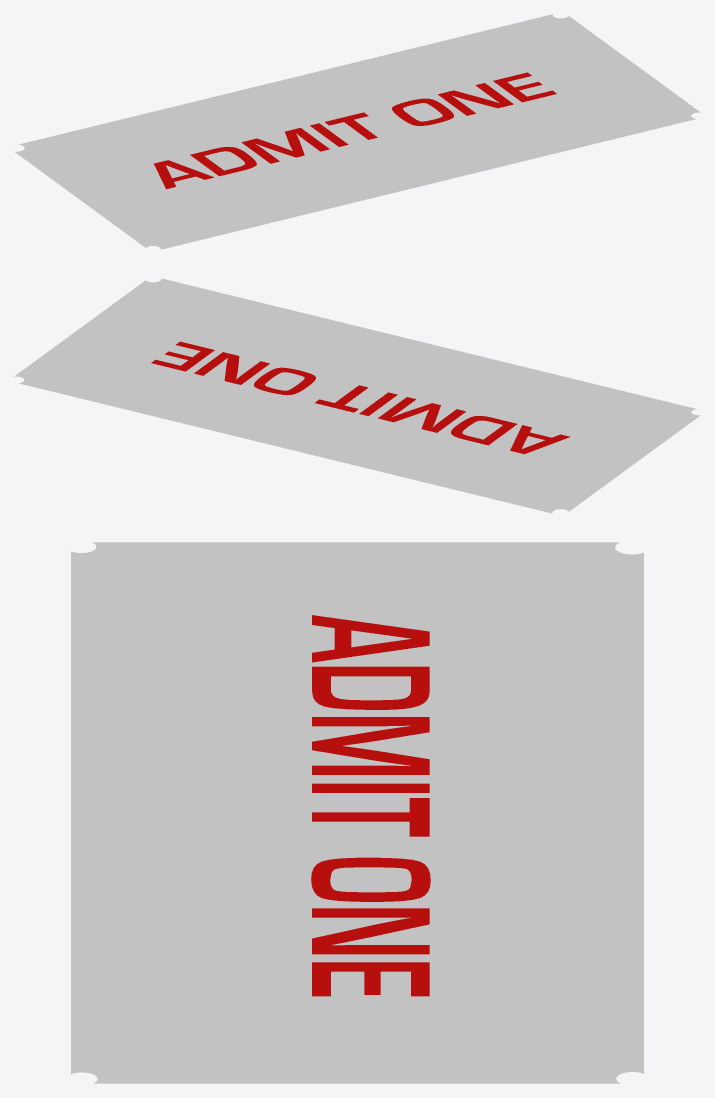
3 views of the same model, one above another, from view 1: azimuth 30°, elevation 25°; view 2: azimuth 150°, elevation 25°; view 3: azimuth 270°, elevation 25° (orthographic). The views are drawn at different scales.
Parts seen in each view (by area): view 1: SketchUp, ADMIT_ONE (×7); view 2: SketchUp, ADMIT_ONE (×7); view 3: SketchUp, ADMIT_ONE (×8).
Part boxes in pixels (bbox=[...]): SketchUp: bbox=[14, 14, 700, 249]; ADMIT_ONE (×7): bbox=[154, 72, 556, 189]; SketchUp: bbox=[14, 278, 700, 513]; ADMIT_ONE (×7): bbox=[151, 341, 570, 454]; SketchUp: bbox=[71, 542, 643, 1083]; ADMIT_ONE (×8): bbox=[311, 615, 430, 996].
Size of the model in its own units: 262 by 117 by 0.12.
